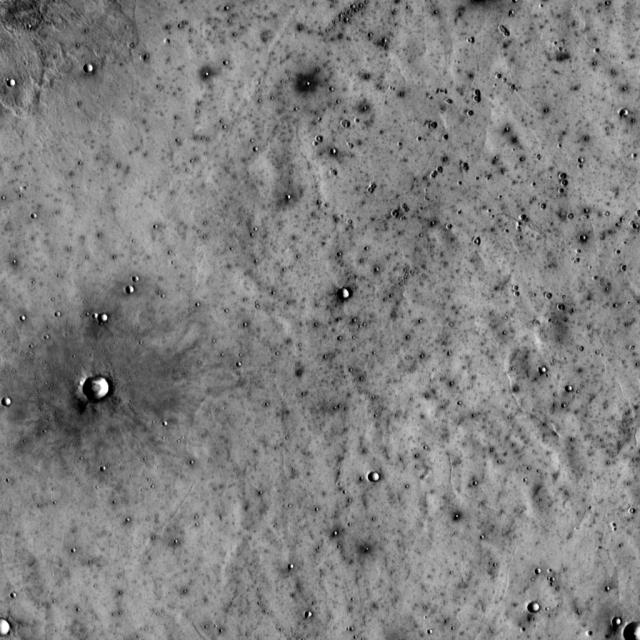crater: (87, 373, 115, 398), (0, 622, 17, 640), (533, 602, 546, 612), (347, 287, 358, 297), (106, 311, 116, 321), (8, 402, 18, 412), (375, 470, 385, 479), (622, 616, 631, 625), (132, 284, 141, 292), (91, 70, 100, 78), (14, 84, 23, 91), (627, 107, 635, 114), (537, 358, 544, 365), (563, 376, 571, 382), (8, 584, 15, 590)
